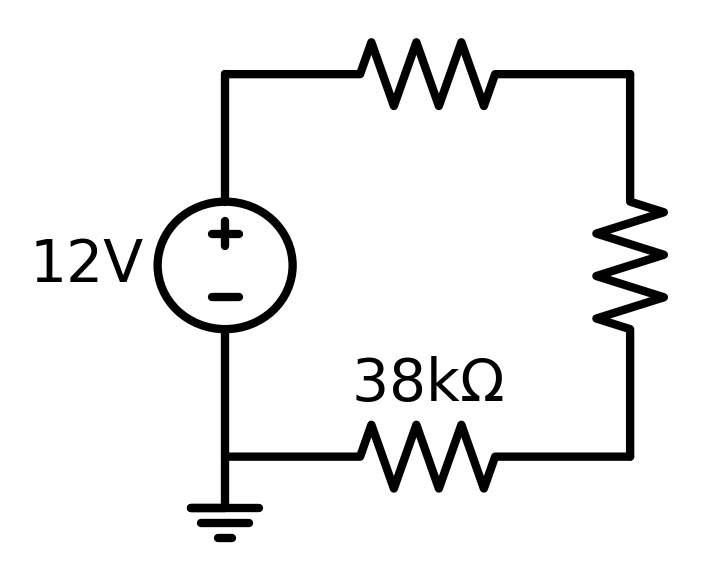ground: (181, 490, 270, 560)
resistor: (344, 27, 510, 121), (349, 416, 511, 509), (586, 187, 673, 350)
sourcedc: (148, 192, 305, 338)
